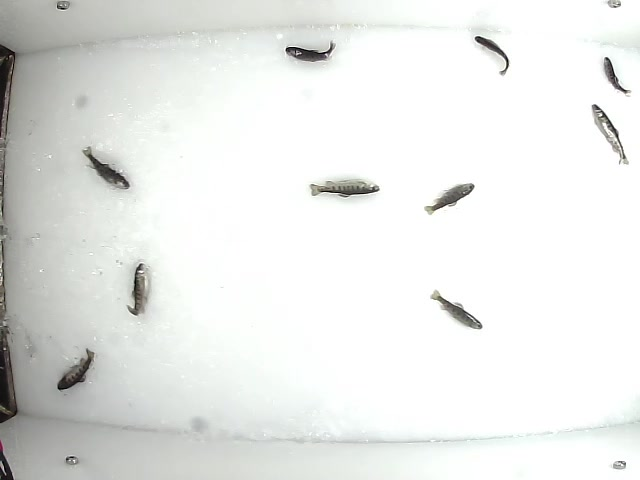fish: (590, 101, 631, 167), (79, 143, 134, 191), (428, 287, 485, 332), (422, 181, 476, 218), (56, 346, 98, 392), (470, 35, 510, 78), (309, 175, 380, 198), (123, 261, 150, 318), (283, 38, 338, 64), (600, 55, 633, 95)
